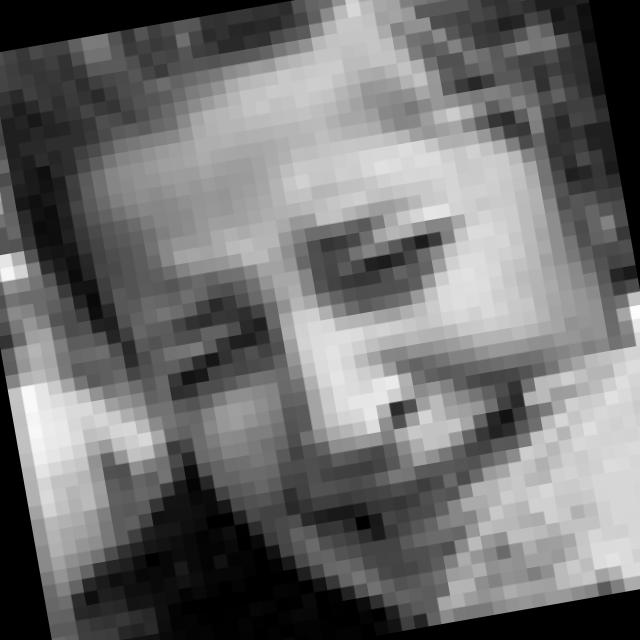sad: (124, 172, 579, 621)
